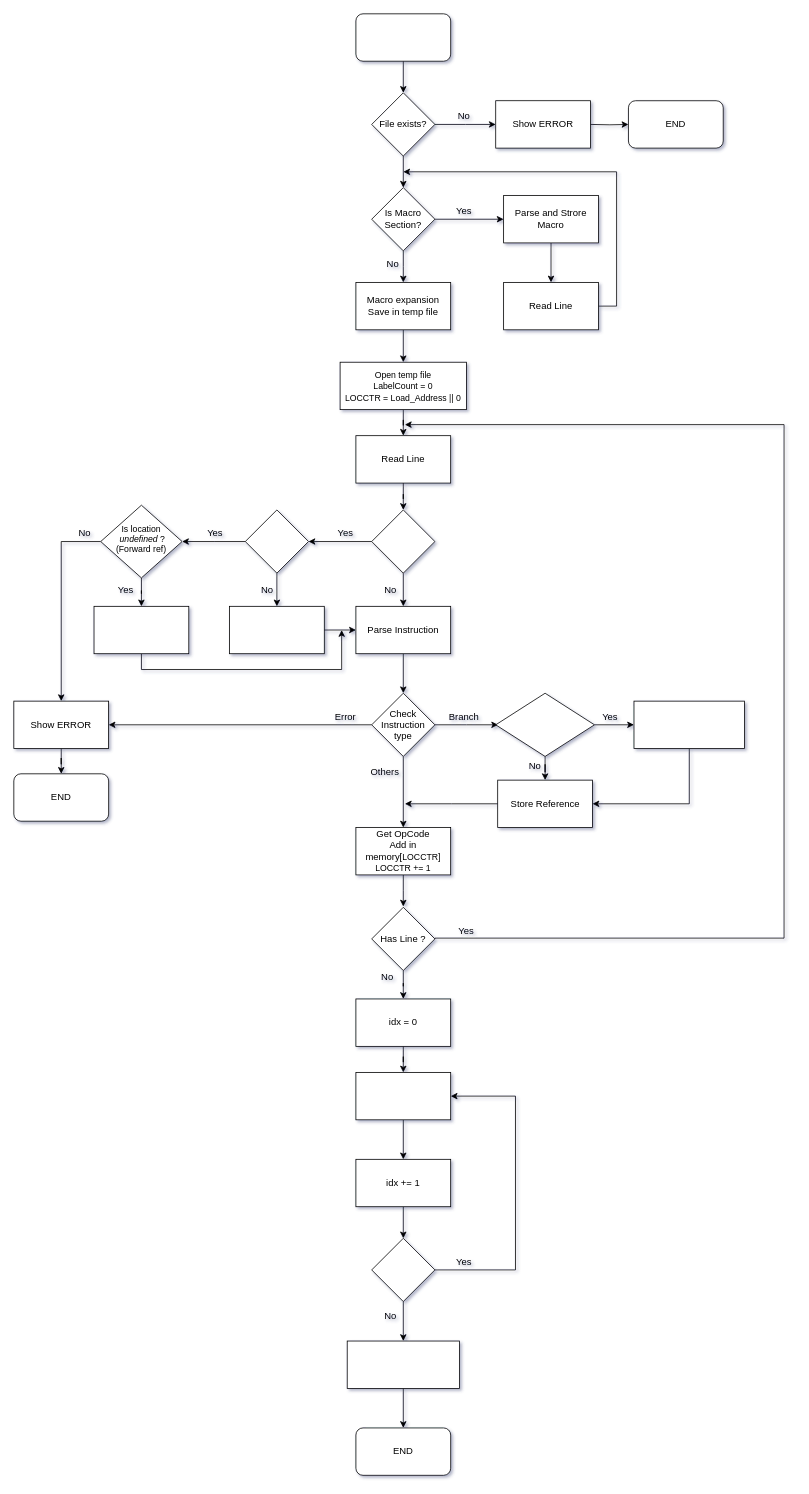
This 809x1494 diagram has some shape labels left out. The centre of each missing label's shape, as x and y in pixels:
"Create Label in SYMTAB with undefined location. LabelCount += 1" belongs at pixel 689 724.
"Exits in SYMTAB?" belongs at pixel 276 541.
"idx<LabelCount" belongs at pixel 403 1270.
"Is Label declaration?" belongs at pixel 403 541.
"Label present in SYMTAB? (Forward ref)" belongs at pixel 544 724.
"PC = Load_Address || 0 Execute Program" belongs at pixel 402 1364.
"Replace Forward Reference for label [ idx]" belongs at pixel 403 1096.
"Set LOCCTR in SYMTAB" belongs at pixel 141 630.
"START" belongs at pixel 403 37.
"Store Label declaration Location and Name in SYMTAB LabelCount += 1" belongs at pixel 276 630.
